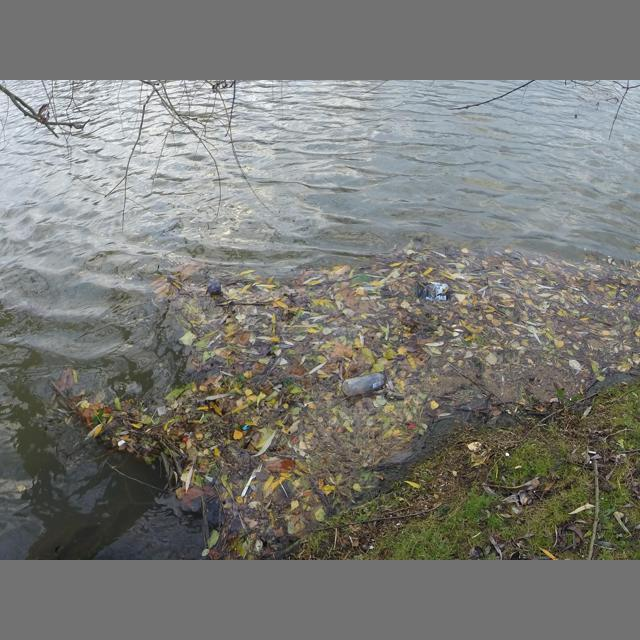litter: (342, 372, 386, 396), (417, 280, 451, 300), (207, 279, 221, 294)
